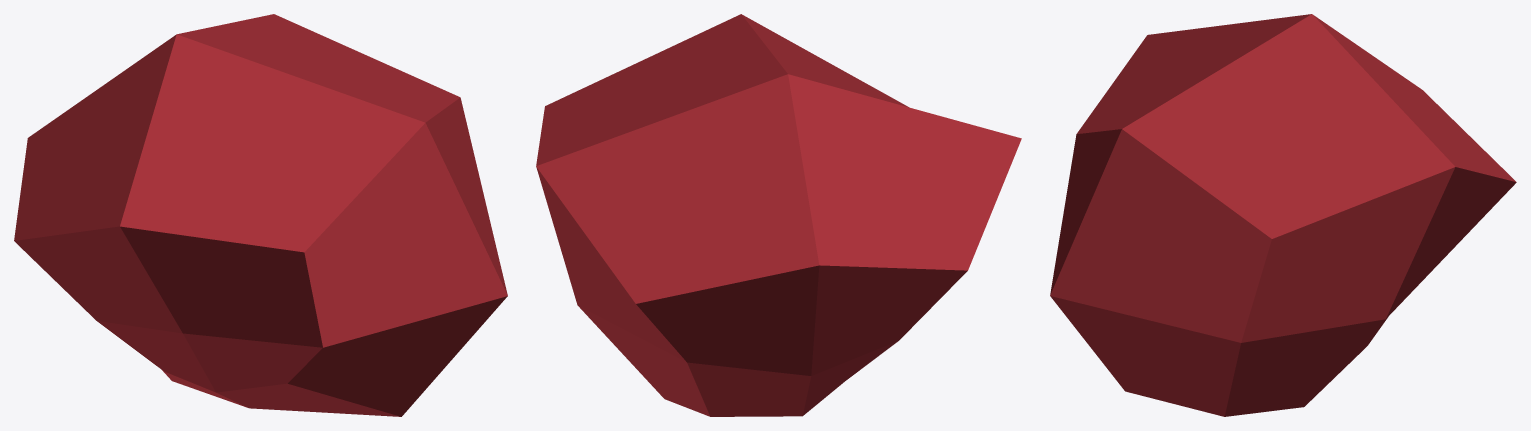
The model's file is bushberries_crop.gltf.
3 renders of one model, left to right at view 1: azimuth 30°, elevation 25°; view 2: azimuth 150°, elevation 25°; view 3: azimuth 270°, elevation 25°, orthographic. The views are drawn at different scales.
Parts seen in each view (by area): view 1: bushberries_crop; view 2: bushberries_crop; view 3: bushberries_crop.
Part boxes in pixels (box(x1,y1,x2,y2)): bushberries_crop: box(14, 14, 507, 416); bushberries_crop: box(536, 14, 1021, 416); bushberries_crop: box(1050, 14, 1516, 416).
Bounding box in the file's own units: 0.169 × 0.1317 × 0.1661.
1 material, 1 textured.
